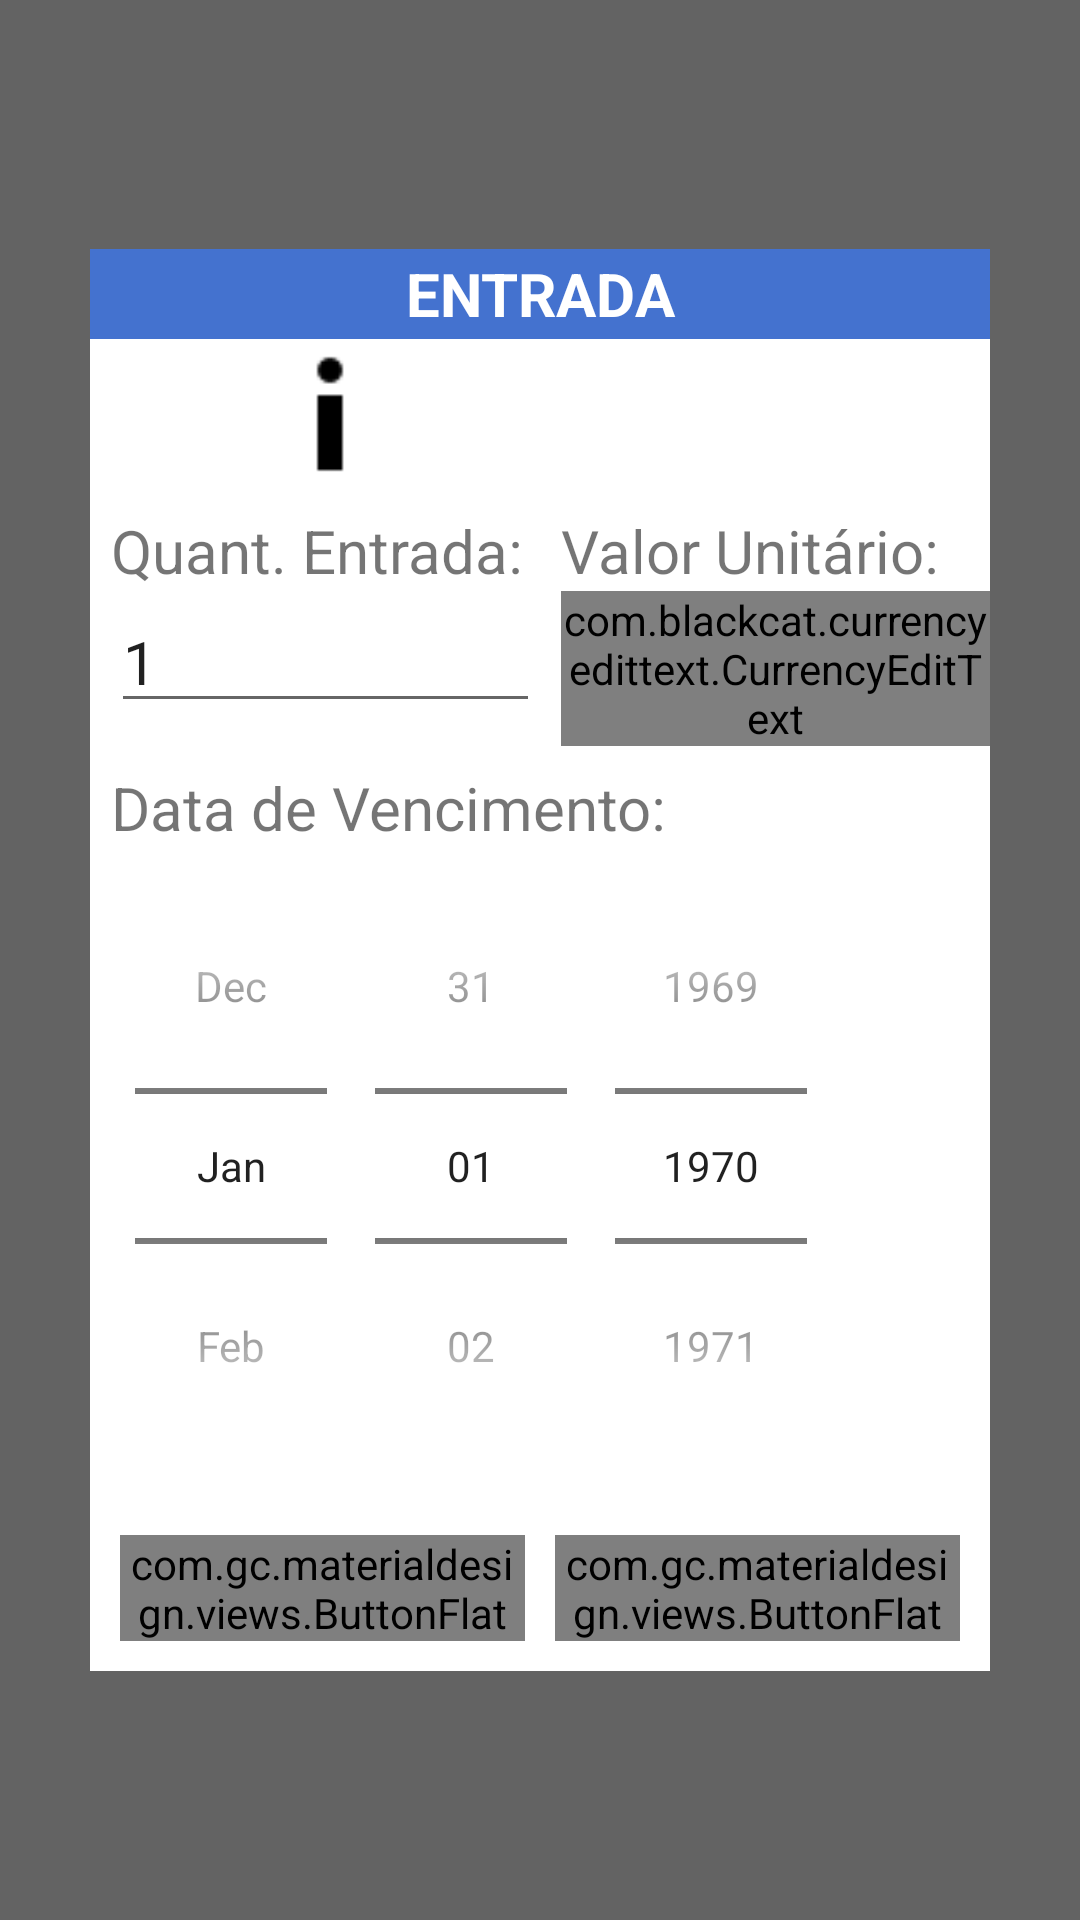

Named icons in this screenshot (1080×1920) and their bounding boxes, rect(x1, y1, x2, y2):
informacao: rect(316, 357, 344, 472)
